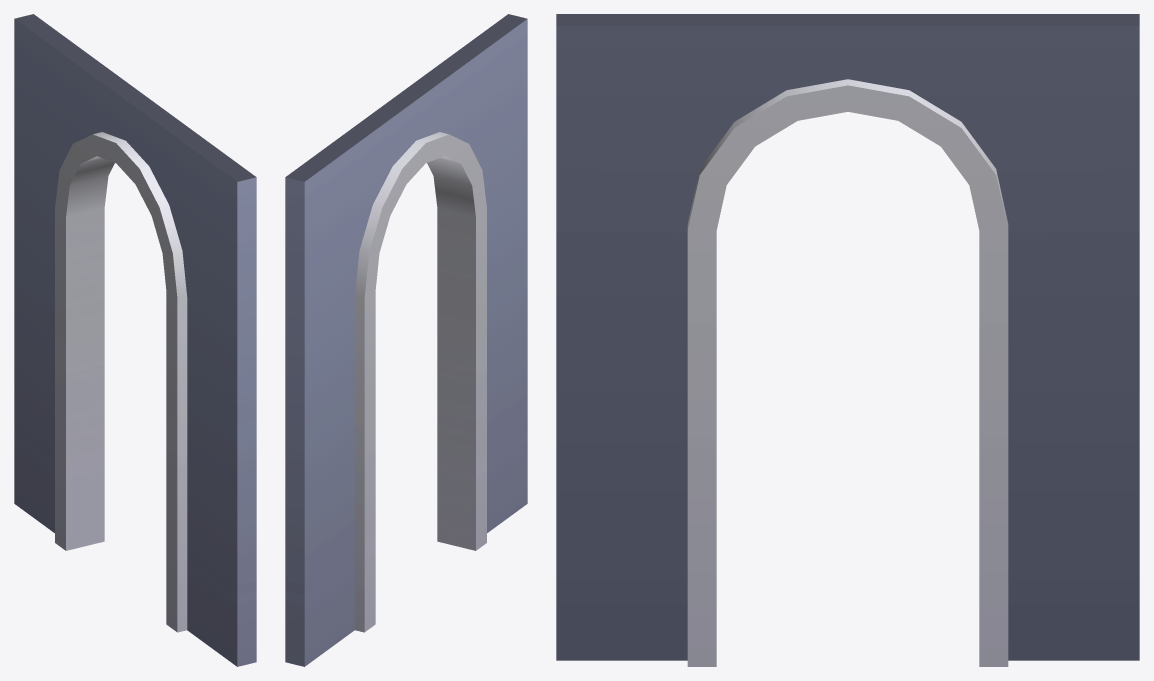
Rendered from wall-doorway-round.optimized.glb.
3 views of the same model, side by side, from view 1: azimuth 30°, elevation 25°; view 2: azimuth 150°, elevation 25°; view 3: azimuth 270°, elevation 25° (orthographic). The views are drawn at different scales.
Visible parts, largest first — view 1: wall-doorway-round; view 2: wall-doorway-round; view 3: wall-doorway-round.
Boxes of the visible parts, x1,y1,x2,y2 form: wall-doorway-round: (14,14,256,666); wall-doorway-round: (285,14,527,666); wall-doorway-round: (556,14,1139,666).
Bounding box in the file's own units: 0.2001 × 2.4 × 2.
Materials: 1 (1 with a texture image).
